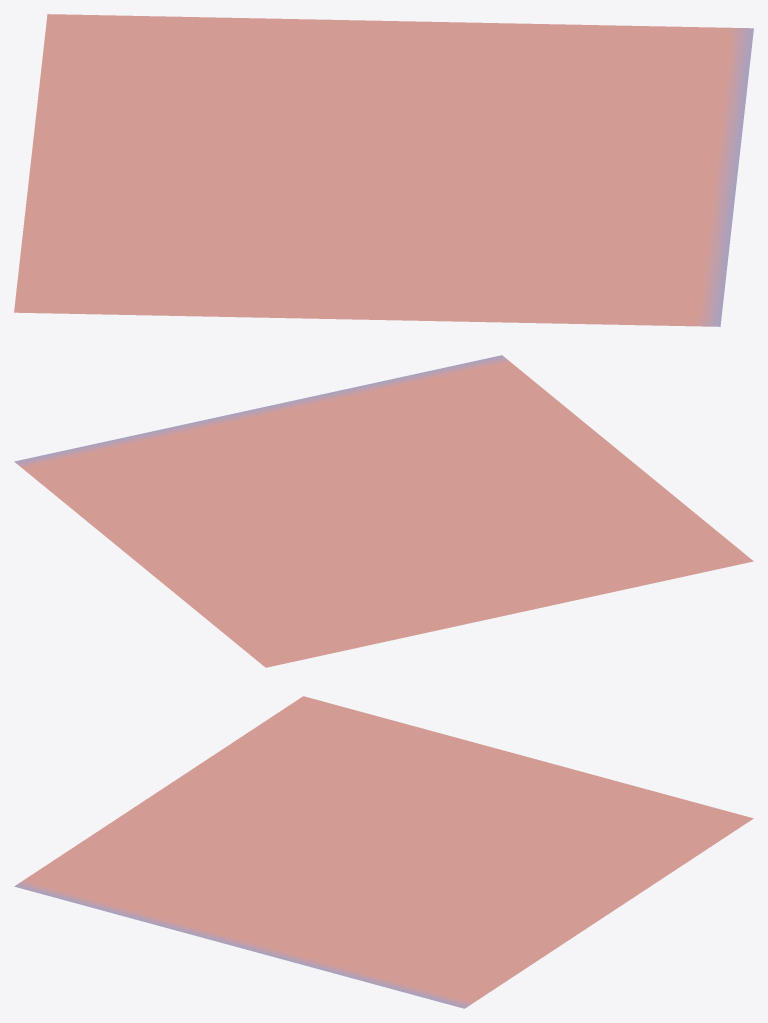
The model's file is Floor #1298522.fbx.
3 views of the same model, one above another, from view 1: azimuth 30°, elevation 25°; view 2: azimuth 150°, elevation 25°; view 3: azimuth 270°, elevation 25° (orthographic). The views are drawn at different scales.
Parts seen in each view (by area): view 1: Floor; view 2: Floor; view 3: Floor.
Part boxes in pixels (bbox=[...]): Floor: bbox=[14, 14, 753, 326]; Floor: bbox=[14, 355, 753, 667]; Floor: bbox=[14, 696, 753, 1008].
Bounding box in the file's own units: 3040 × 9.62e-05 × 3040.
1 material, 1 textured.
